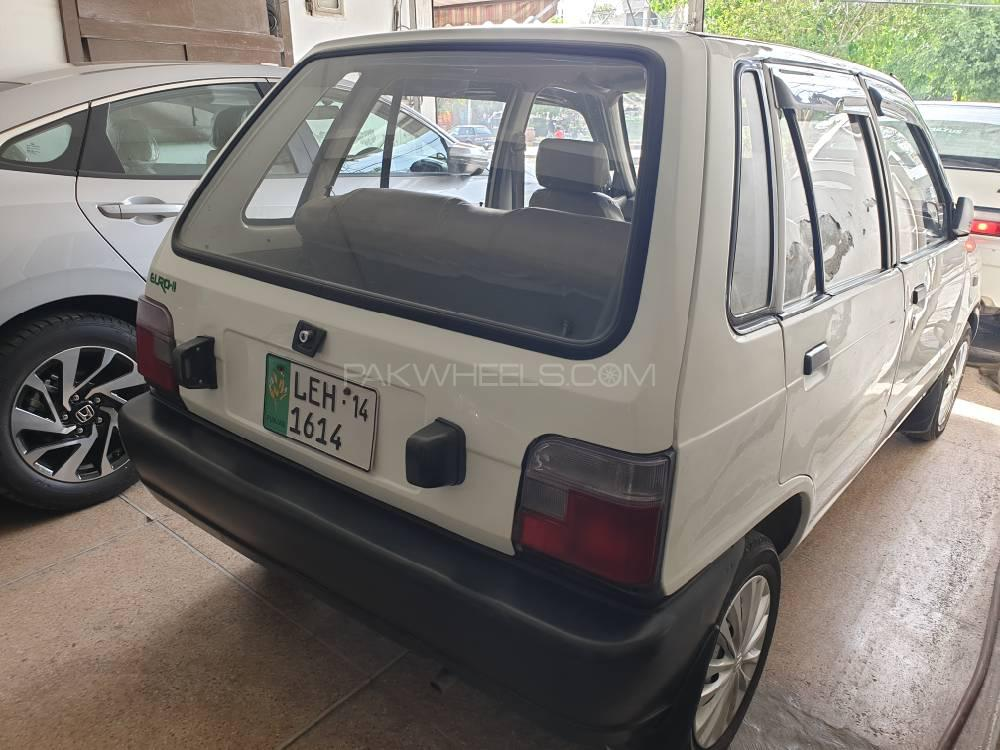license plate: (262, 358, 383, 459)
